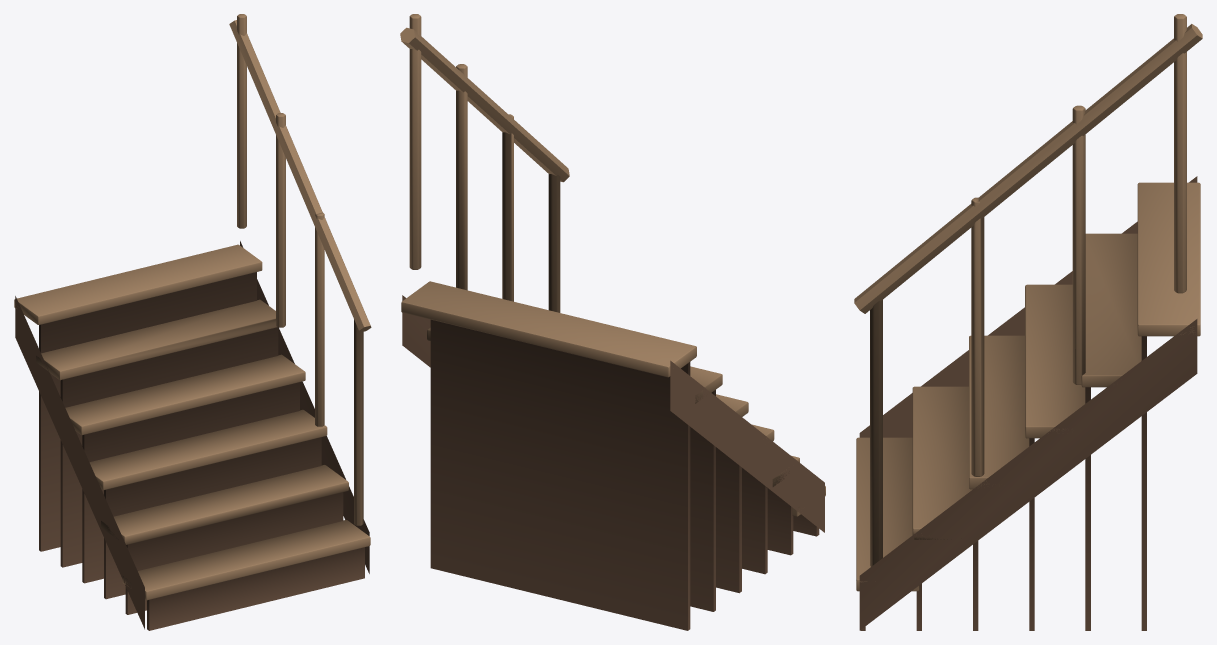
File: stairs.glb
3 renders of one model, left to right at view 1: azimuth 30°, elevation 25°; view 2: azimuth 150°, elevation 25°; view 3: azimuth 270°, elevation 25°, orthographic. The views are drawn at different scales.
Visible parts, largest first — view 1: boat_oak, boat_darkwood; view 2: boat_darkwood, boat_oak; view 3: boat_oak, boat_darkwood.
Part boxes in pixels (bbox=[...]): boat_oak: bbox=[14, 14, 371, 600]; boat_darkwood: bbox=[15, 241, 369, 630]; boat_darkwood: bbox=[402, 295, 824, 630]; boat_oak: bbox=[400, 14, 825, 516]; boat_oak: bbox=[854, 14, 1202, 591]; boat_darkwood: bbox=[859, 176, 1197, 630].
Bounding box in the file's own units: 1.01 × 2.01 × 1.03.
